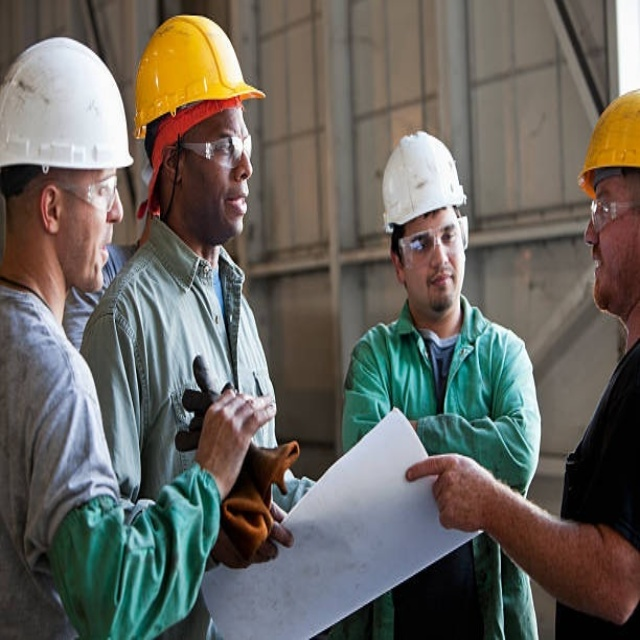Gafas: (398, 215, 470, 258), (173, 128, 254, 165), (61, 171, 119, 212), (589, 196, 634, 234)
Sin_guantes: (192, 380, 281, 486), (407, 447, 497, 534)
Sin_mascara: (81, 223, 116, 287), (218, 176, 252, 234), (587, 243, 621, 299), (424, 263, 458, 302)
